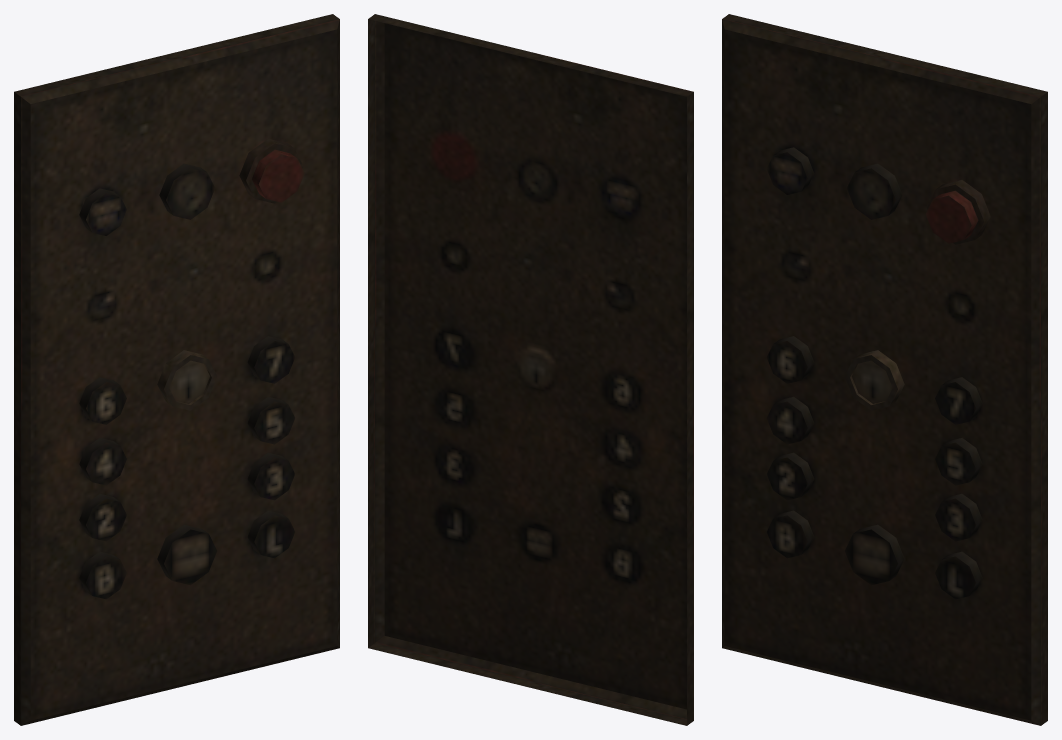
File: elevator_buttons_1.obj
3 views of the same model, side by side, from view 1: azimuth 30°, elevation 25°; view 2: azimuth 150°, elevation 25°; view 3: azimuth 330°, elevation 25° (orthographic).
Visible parts, largest first — view 1: elevator_buttons_1; view 2: elevator_buttons_1; view 3: elevator_buttons_1.
Part boxes in pixels (x1,y1,x2,y2): elevator_buttons_1: (14,14,339,725); elevator_buttons_1: (368,14,693,725); elevator_buttons_1: (722,14,1047,725).
Size of the model in its own units: 0.2652 by 0.5 by 0.0346.
